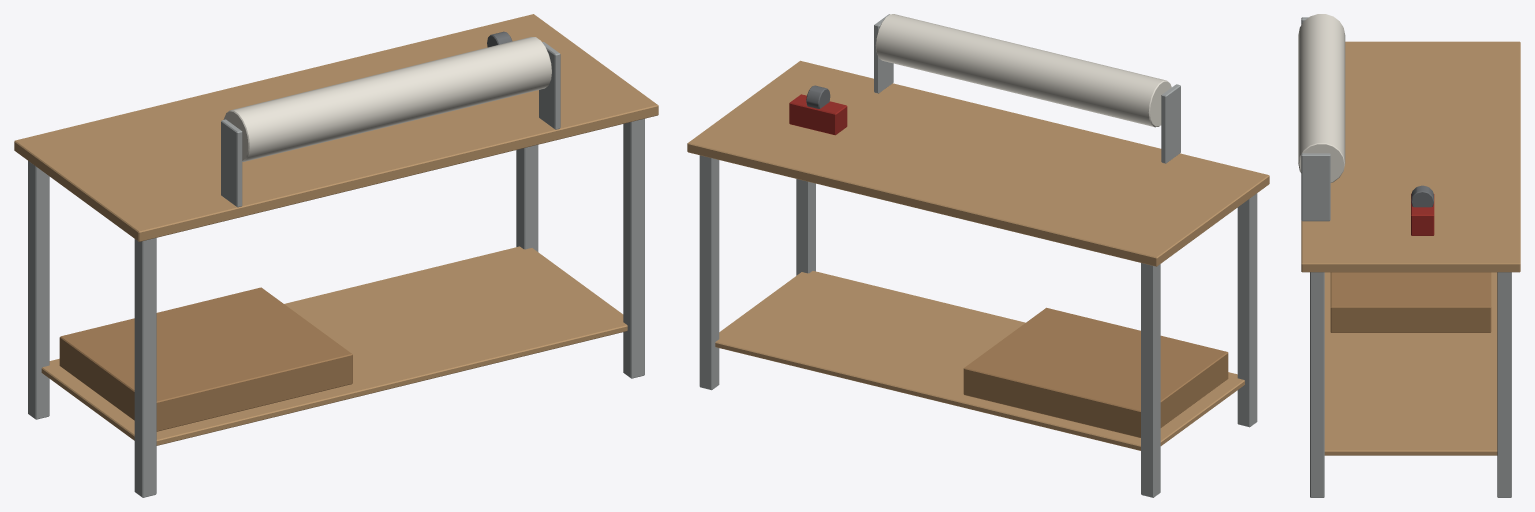
The model's file is prop_packing_bench.glb.
The picture shows the model from 3 angles, left to right: view 1: azimuth 30°, elevation 25°; view 2: azimuth 150°, elevation 25°; view 3: azimuth 270°, elevation 25°; orthographic projection. The views are drawn at different scales.
Parts seen in each view (by area): view 1: Bench; view 2: Bench; view 3: Bench.
Part boxes in pixels (<box>): Bench: <box>14,14,658,497</box>; Bench: <box>687,14,1269,497</box>; Bench: <box>1298,14,1520,497</box>.
Size of what is drawn, in the model's own units: 1.8 by 1.18 by 0.76.
